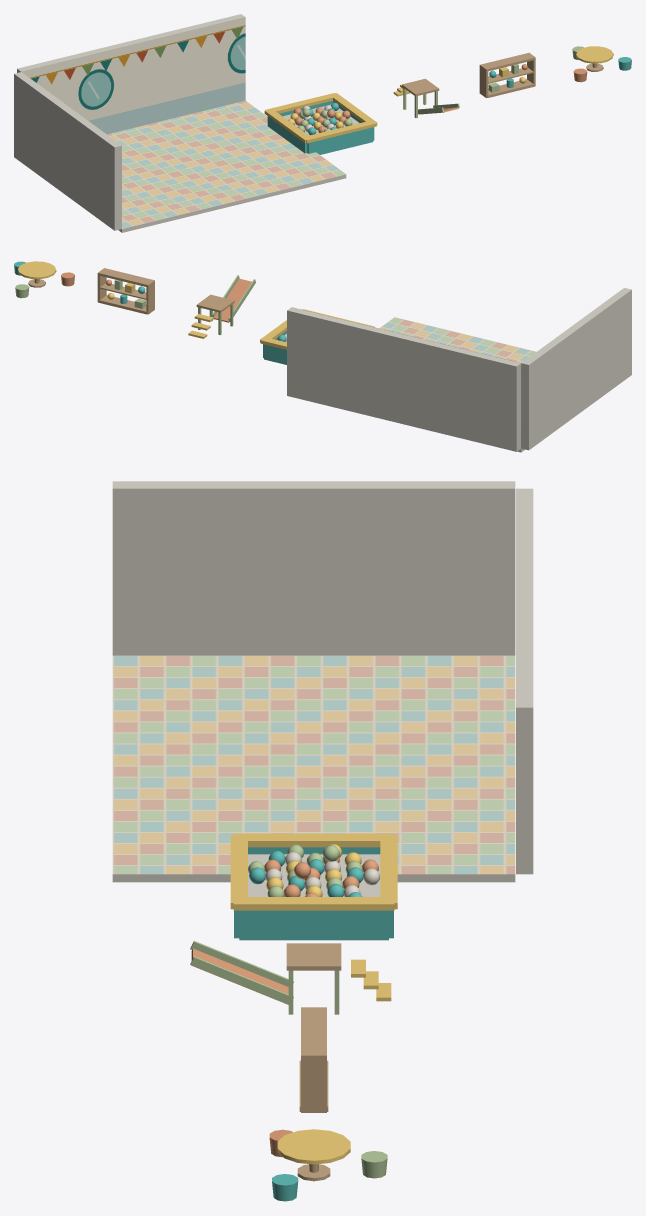
The model's file is kit-14-interior-taman.glb.
The picture shows the model from 3 angles, top to bottom: view 1: azimuth 30°, elevation 25°; view 2: azimuth 150°, elevation 25°; view 3: azimuth 270°, elevation 25°; orthographic projection. The views are drawn at different scales.
Parts seen in each view (by area): view 1: TamanIn_Ruang, TamanIn_KolamBola, TamanIn_RakMainan, TamanIn_MejaAnak, TamanIn_PerosotanMini; view 2: TamanIn_Ruang, TamanIn_RakMainan, TamanIn_PerosotanMini, TamanIn_MejaAnak, TamanIn_KolamBola; view 3: TamanIn_Ruang, TamanIn_KolamBola, TamanIn_PerosotanMini, TamanIn_MejaAnak, TamanIn_RakMainan.
Part boxes in pixels (x1,y1,x2,y2): TamanIn_Ruang: (14,14,346,232); TamanIn_KolamBola: (264,93,377,154); TamanIn_RakMainan: (479,52,535,97); TamanIn_MejaAnak: (572,46,631,82); TamanIn_PerosotanMini: (393,78,459,118); TamanIn_Ruang: (287,288,631,452); TamanIn_RakMainan: (97,268,154,314); TamanIn_PerosotanMini: (188,275,255,338); TamanIn_MejaAnak: (14,261,74,298); TamanIn_KolamBola: (260,309,374,364); TamanIn_Ruang: (112,481,533,882); TamanIn_KolamBola: (230,833,397,940); TamanIn_PerosotanMini: (190,940,391,1014); TamanIn_MejaAnak: (269,1129,387,1201); TamanIn_RakMainan: (299,1007,328,1112).
Bounding box in the file's own units: 22.46 × 3.35 × 7.31.
Materials: 8 (2 with a texture image).
